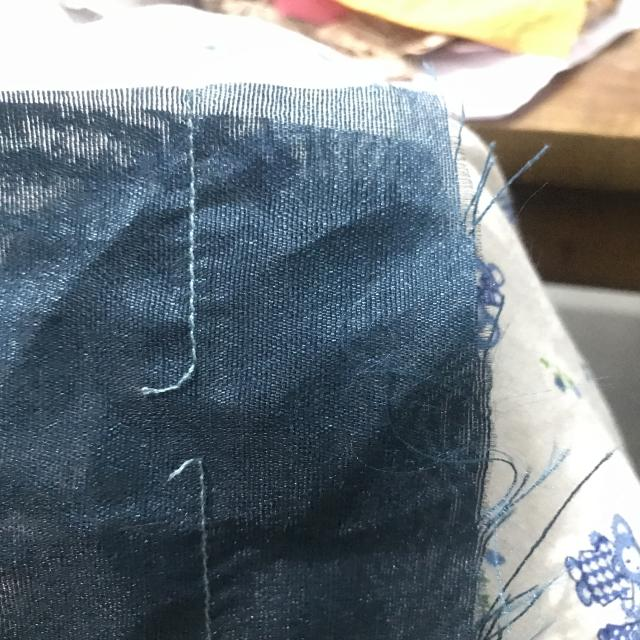broken: (116, 342, 264, 492)
good: (180, 221, 209, 316)
